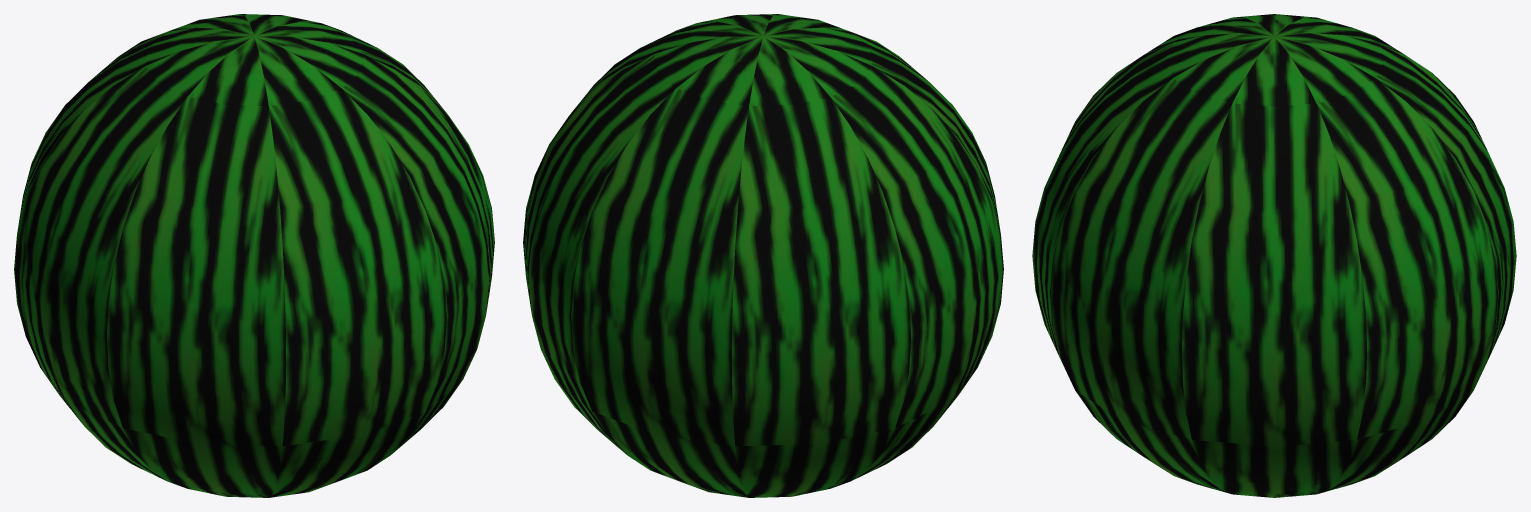
The model's file is suika.fbx.
3 renders of one model, left to right at view 1: azimuth 30°, elevation 25°; view 2: azimuth 150°, elevation 25°; view 3: azimuth 270°, elevation 25°, orthographic.
Visible parts, largest first — view 1: pSphere2, pSphere1, pSphere3, pSphere6, pSphere4, pSphere5, pSphere7, pSphere8; view 2: pSphere4, pSphere7, pSphere3, pSphere8, pSphere2, pSphere5, pSphere1, pSphere6; view 3: pSphere5, pSphere6, pSphere8, pSphere1, pSphere7, pSphere2, pSphere4, pSphere3.
Boxes of the visible parts, bbox=[...] form: pSphere2: bbox=[107, 36, 285, 497]; pSphere1: bbox=[254, 36, 446, 497]; pSphere3: bbox=[14, 36, 253, 480]; pSphere6: bbox=[255, 36, 494, 453]; pSphere4: bbox=[17, 27, 253, 232]; pSphere5: bbox=[255, 21, 447, 114]; pSphere7: bbox=[168, 14, 254, 35]; pSphere8: bbox=[241, 14, 319, 35]; pSphere4: bbox=[732, 36, 910, 497]; pSphere7: bbox=[571, 36, 763, 497]; pSphere3: bbox=[764, 36, 1003, 480]; pSphere8: bbox=[523, 36, 762, 453]; pSphere2: bbox=[764, 27, 1000, 232]; pSphere5: bbox=[570, 21, 762, 114]; pSphere1: bbox=[763, 14, 849, 35]; pSphere6: bbox=[698, 14, 776, 35]; pSphere5: bbox=[1182, 37, 1366, 497]; pSphere6: bbox=[1050, 36, 1273, 493]; pSphere8: bbox=[1275, 36, 1498, 493]; pSphere1: bbox=[1032, 33, 1273, 378]; pSphere7: bbox=[1275, 33, 1516, 378]; pSphere2: bbox=[1144, 17, 1273, 54]; pSphere4: bbox=[1275, 17, 1404, 54]; pSphere3: bbox=[1233, 14, 1315, 36].
Bounding box in the file's own units: 55.28 × 55.28 × 55.28.
Materials: 1 (1 with a texture image).
